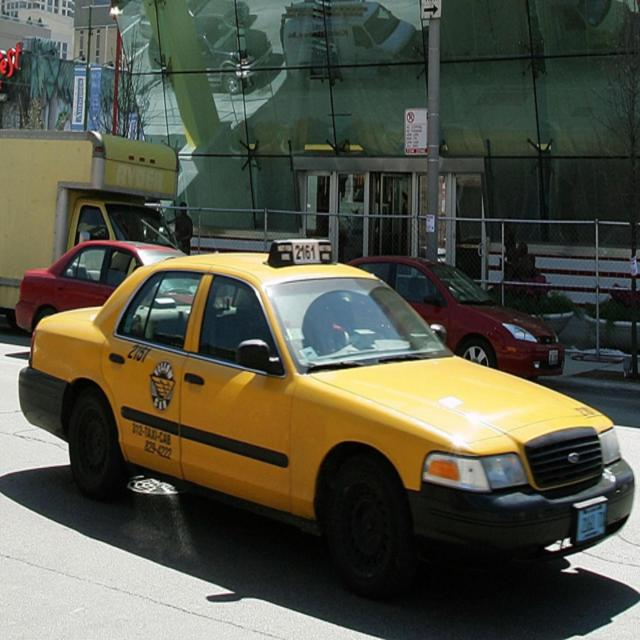Taxi: (46, 237, 612, 640)
